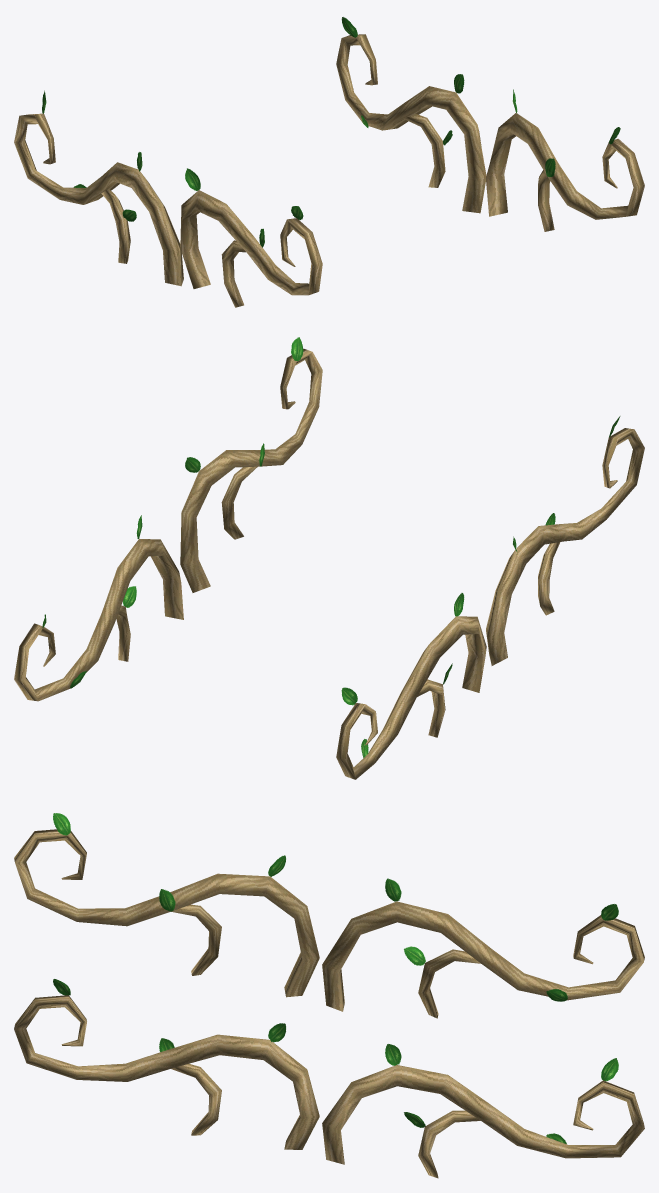
The model's file is EKH_ENTRANCE_PS_EN_BRIDGETRIM65__GX.fbx.
3 renders of one model, top to bottom at view 1: azimuth 30°, elevation 25°; view 2: azimuth 150°, elevation 25°; view 3: azimuth 270°, elevation 25°, orthographic. The views are drawn at different scales.
Parts seen in each view (by area): view 1: EKH_ENTRANCE_PS_EN_BRIDGETRIM65__GX; view 2: EKH_ENTRANCE_PS_EN_BRIDGETRIM65__GX; view 3: EKH_ENTRANCE_PS_EN_BRIDGETRIM65__GX.
Part boxes in pixels (x1,y1,x2,y2): EKH_ENTRANCE_PS_EN_BRIDGETRIM65__GX: (14,17,644,307); EKH_ENTRANCE_PS_EN_BRIDGETRIM65__GX: (14,337,644,779); EKH_ENTRANCE_PS_EN_BRIDGETRIM65__GX: (14,813,644,1178).
Size of the model in its own units: 39650 by 21581 by 60981.
Materials: 2 (2 with a texture image).
